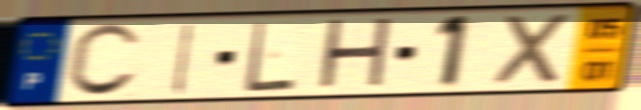1: (431, 12, 475, 91)
C: (62, 21, 145, 101)
H: (313, 15, 396, 95)
I: (168, 21, 199, 97)
L: (242, 19, 299, 95)
X: (492, 11, 577, 89)
